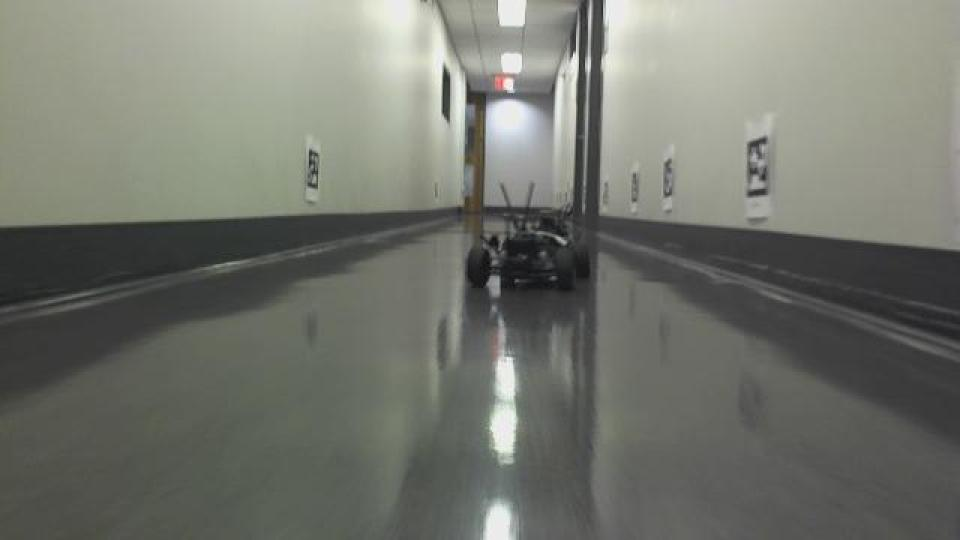car: (461, 178, 591, 296)
